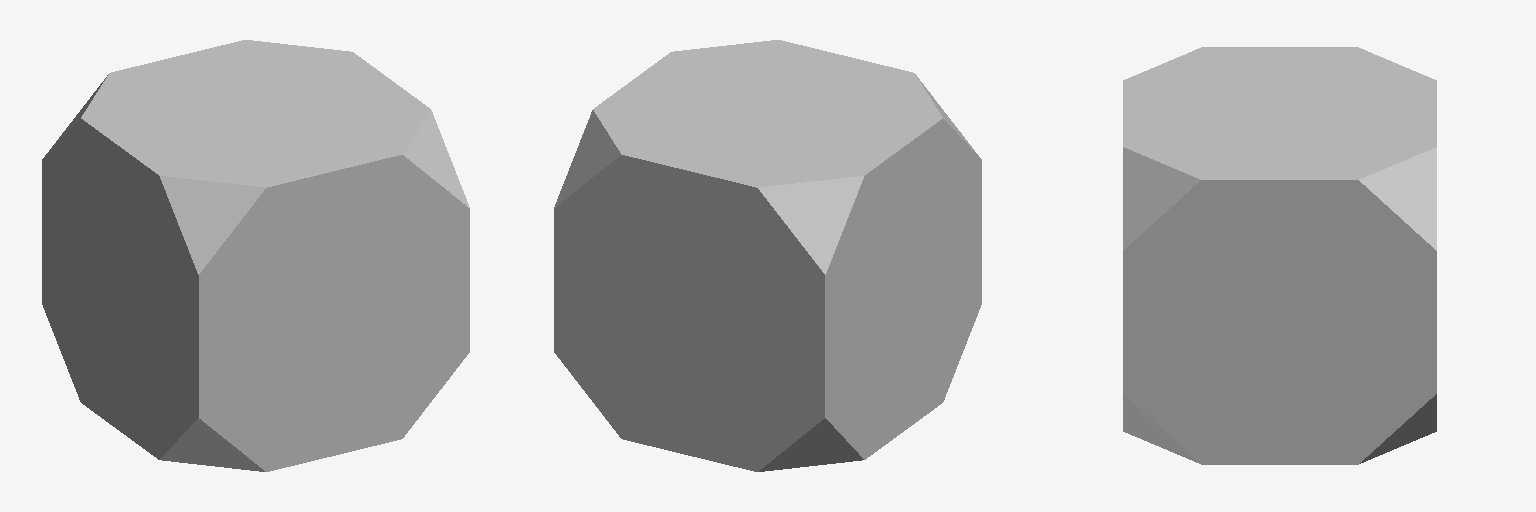
The model's file is driver_main.obj.
3 renders of one model, left to right at view 1: azimuth 30°, elevation 25°; view 2: azimuth 150°, elevation 25°; view 3: azimuth 270°, elevation 25°, orthographic.
Visible parts, largest first — view 1: object_1; view 2: object_1; view 3: object_1.
Part boxes in pixels (x1,y1,x2,y2): object_1: (42, 40, 469, 471); object_1: (554, 40, 981, 471); object_1: (1123, 47, 1436, 464).
Bounding box in the file's own units: 0.56 × 0.56 × 0.56.